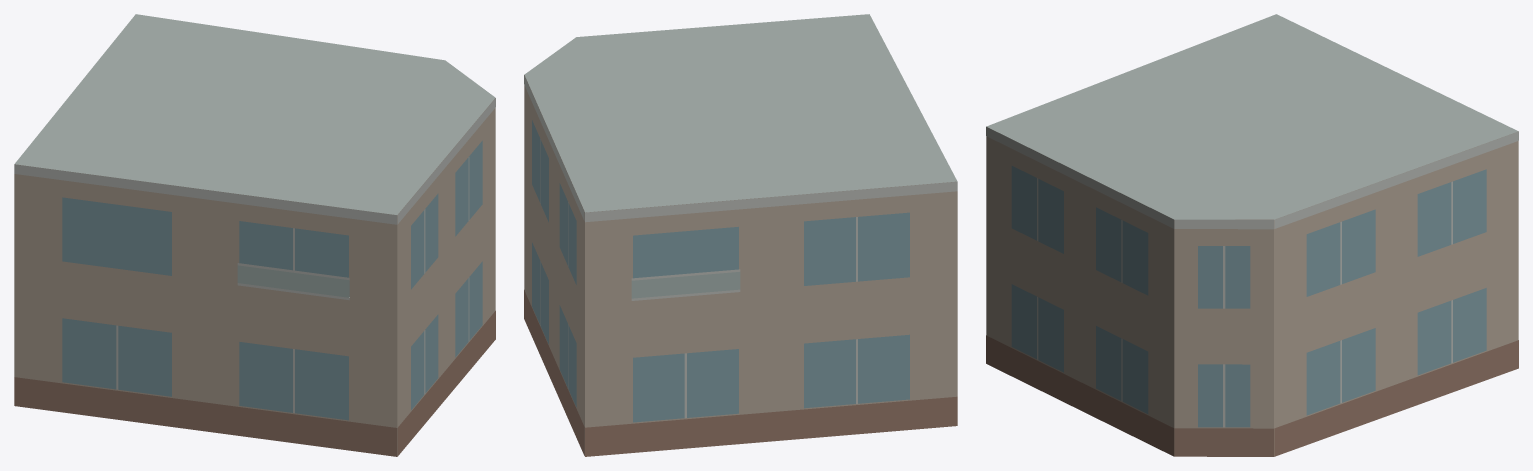
The model's file is survey-upis-32894046.glb.
3 views of the same model, side by side, from view 1: azimuth 30°, elevation 25°; view 2: azimuth 150°, elevation 25°; view 3: azimuth 270°, elevation 25° (orthographic). The views are drawn at different scales.
Visible parts, largest first — view 1: survey-upis-32894046.tmp; view 2: survey-upis-32894046.tmp; view 3: survey-upis-32894046.tmp.
Boxes of the visible parts, box(x1,y1,x2,y2) form: survey-upis-32894046.tmp: box(14, 14, 495, 456); survey-upis-32894046.tmp: box(524, 14, 957, 456); survey-upis-32894046.tmp: box(986, 14, 1518, 456).
Size of the model in its own units: 11.36 by 6.1 by 12.43.
